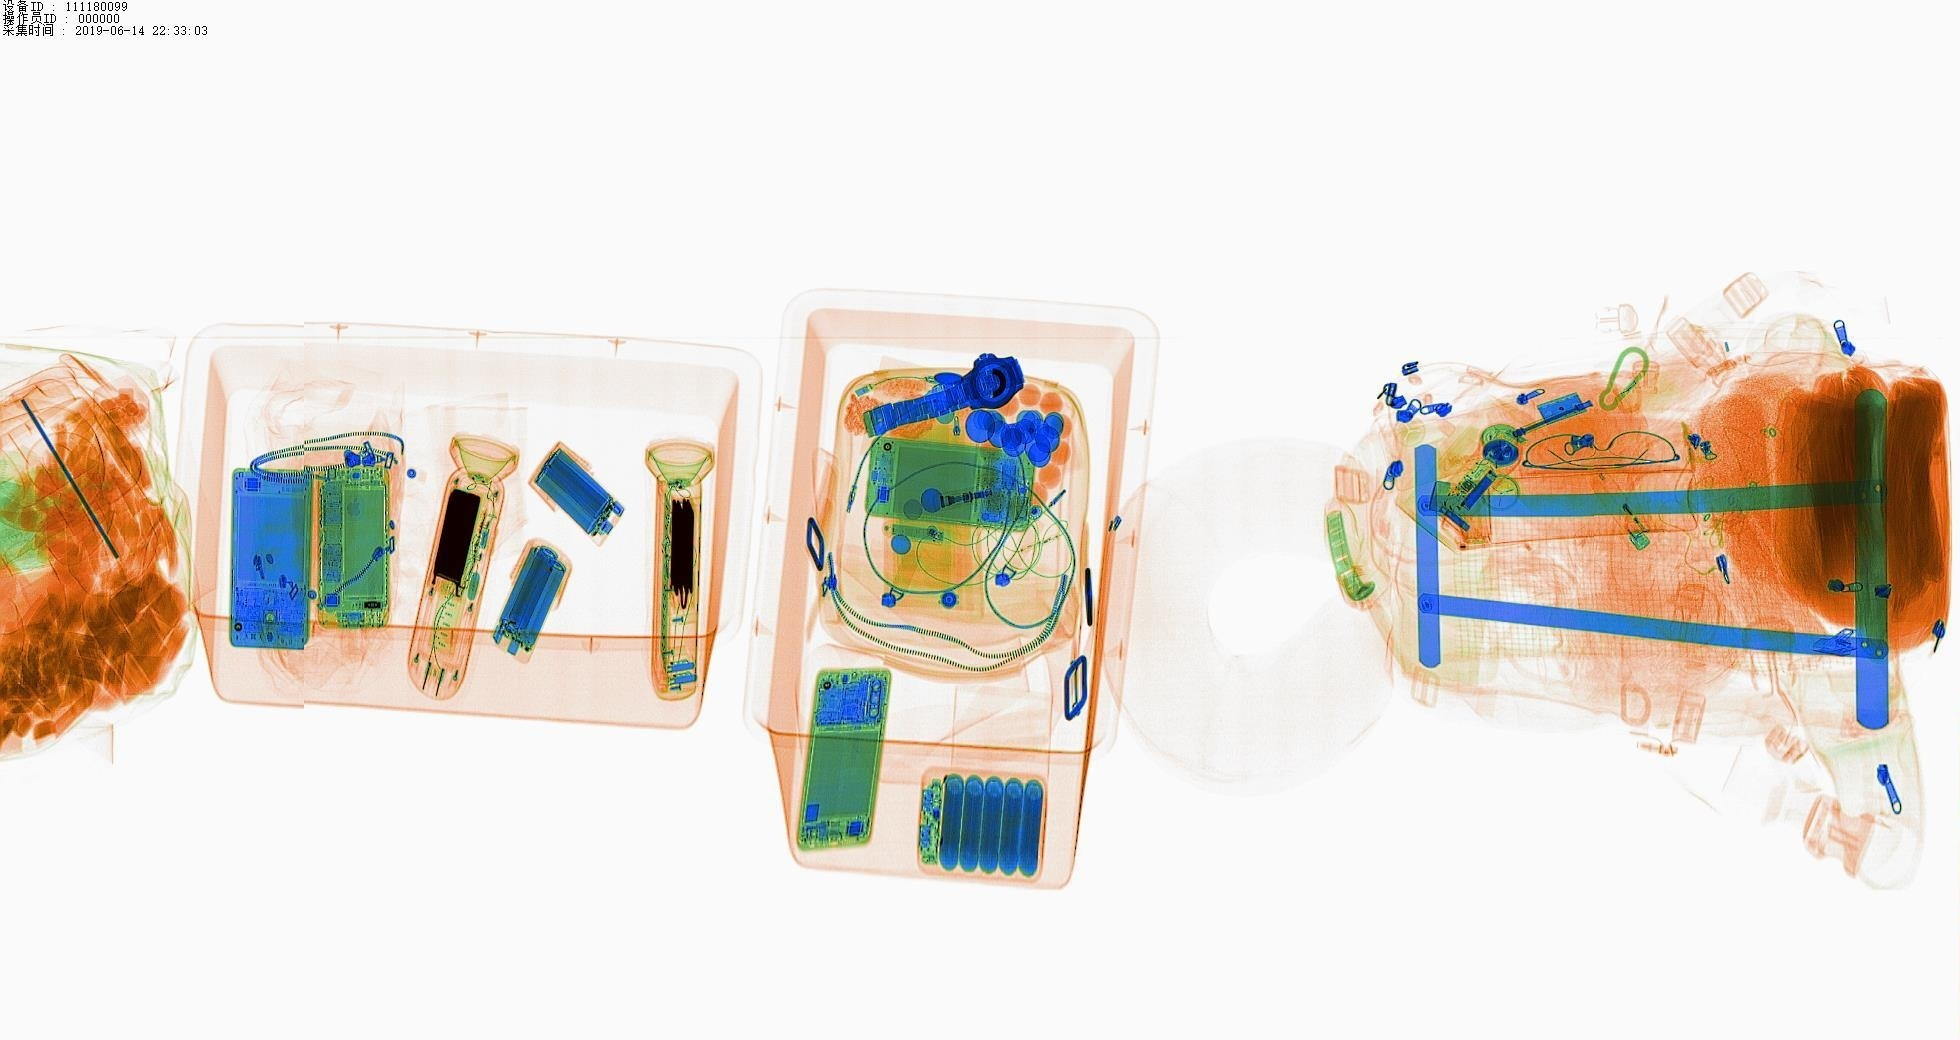NonmetallicFire: (1576, 459, 1661, 565)
